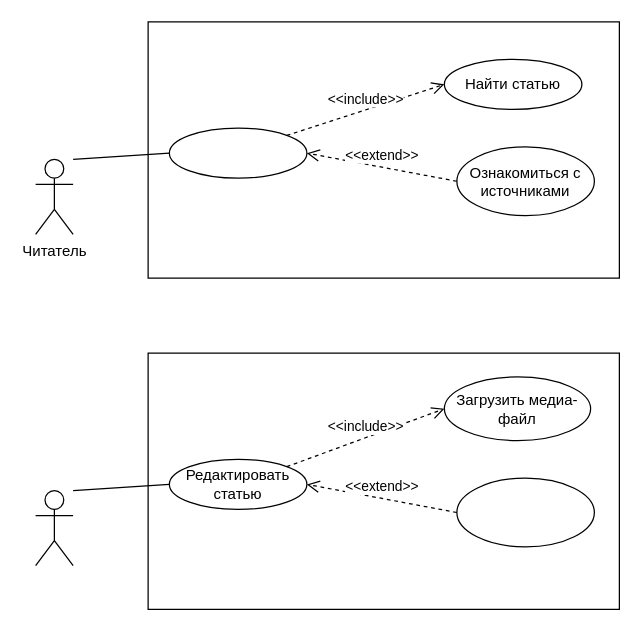
The diagram is 641 pixels wide and 631 high, and some of its shapes have lost their labels. Each missing label, with the box of its shape:
Обсудить правки: (456, 477, 594, 547)
Прочитать статью: (168, 127, 307, 178)
Редактор: (34, 489, 73, 566)
